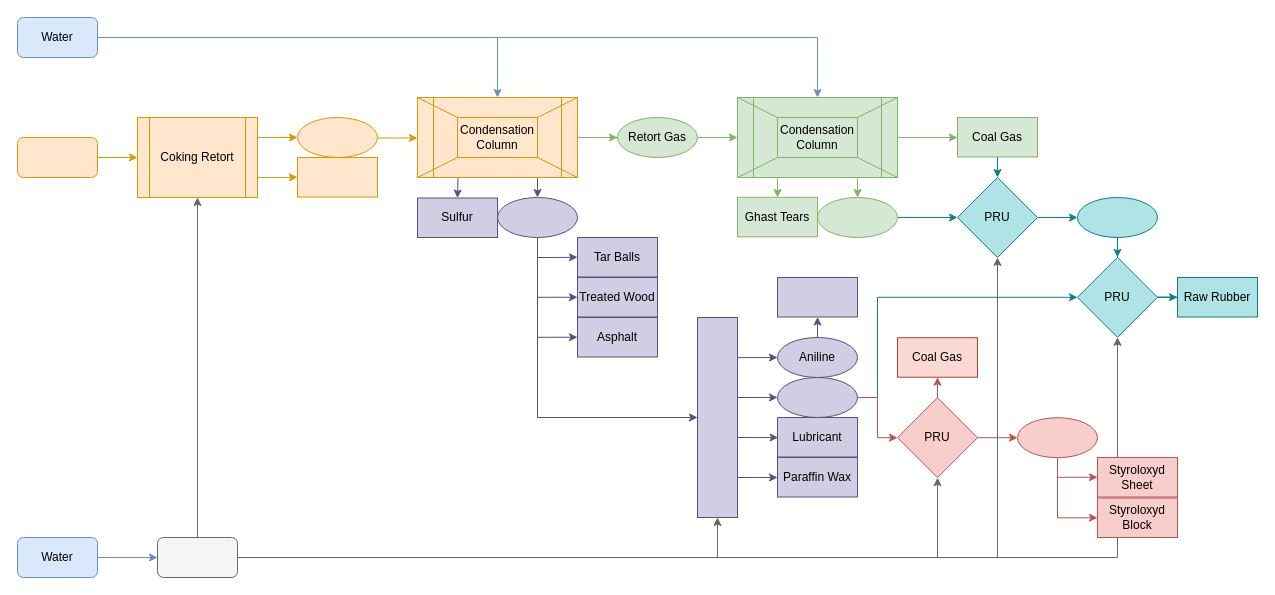
The diagram is 1275 pixels wide and 595 high, and some of its shapes have lost their labels. Here are the shapes that lost their labels. From the top down, the centre of each, then its label:
At (57,157): "Coal".
At (337,137): "Tar Gas".
At (337,176): "Coal Coke".
At (537,217): "Coal Tar".
At (857,217): "Ammoniacal Liqour".
At (1117,217): "ACN Liqour".
At (817,296): "Synthetic Dye".
At (717,417): "Steam Distillation Column".
At (817,397): "Coal Oil".
At (1057,437): "Raw Styroloxyd".
At (197,557): "Process Steam".
